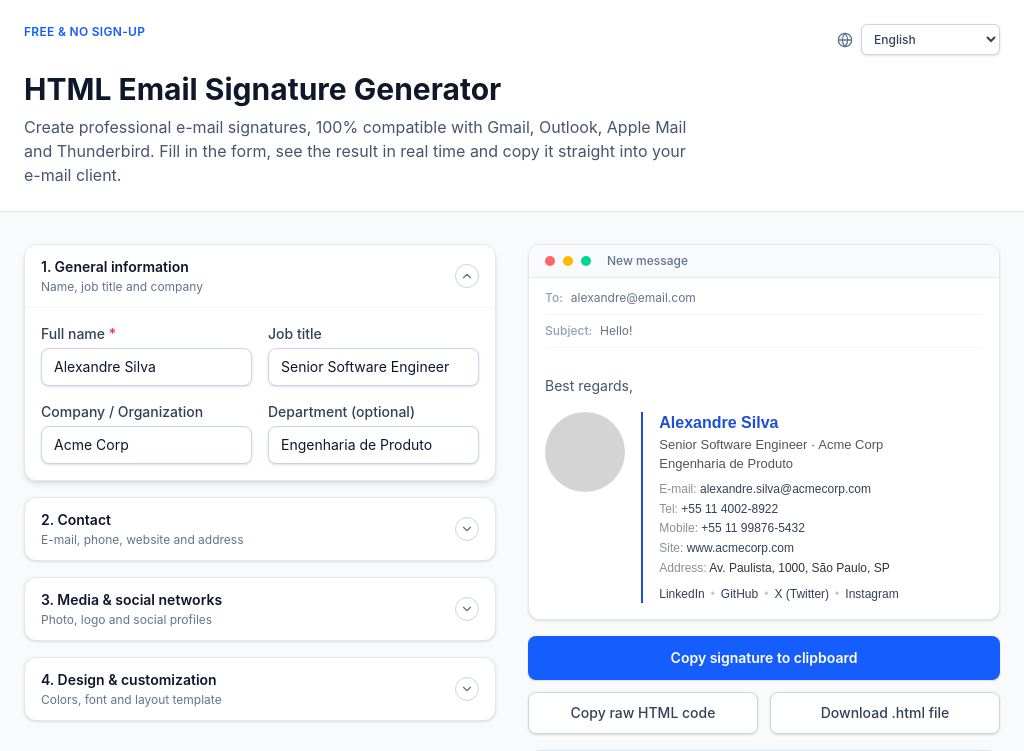
Test: App › switches the UI language when a different language is selected
Select "Português" in the dropdown named "Language": [930, 40] box [861, 24, 1000, 55]
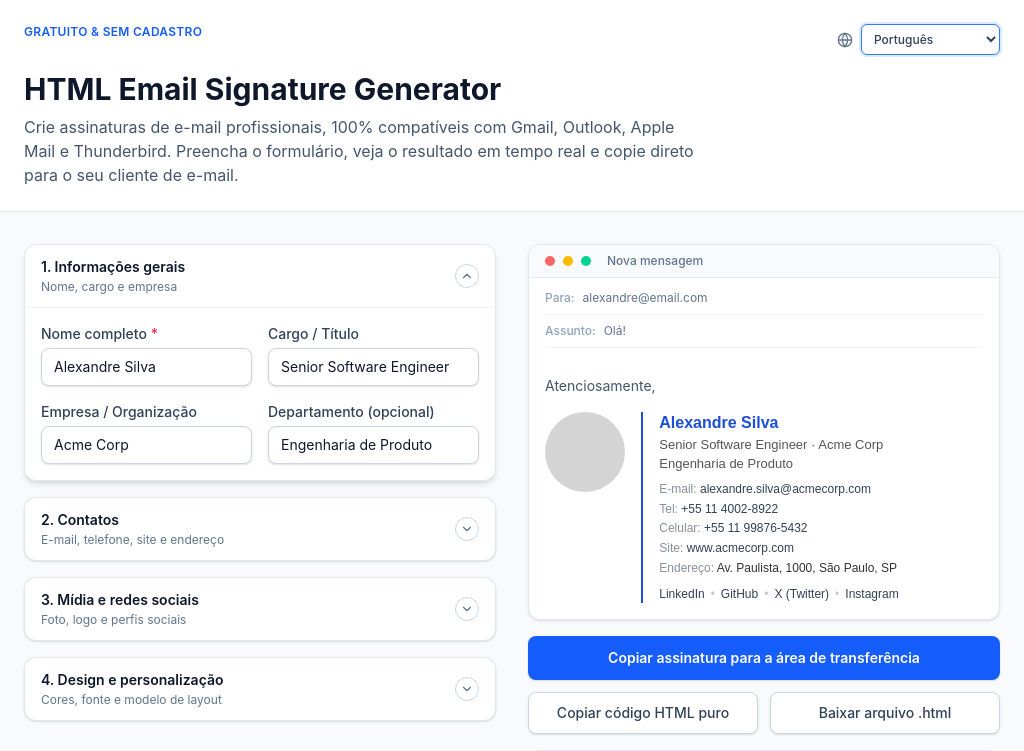
Expected: the field labelled "Nome completo *" is shown, [41, 348, 252, 386]
Now the text "Gratuito & sem cadastro" is shown, box [24, 24, 202, 40]
